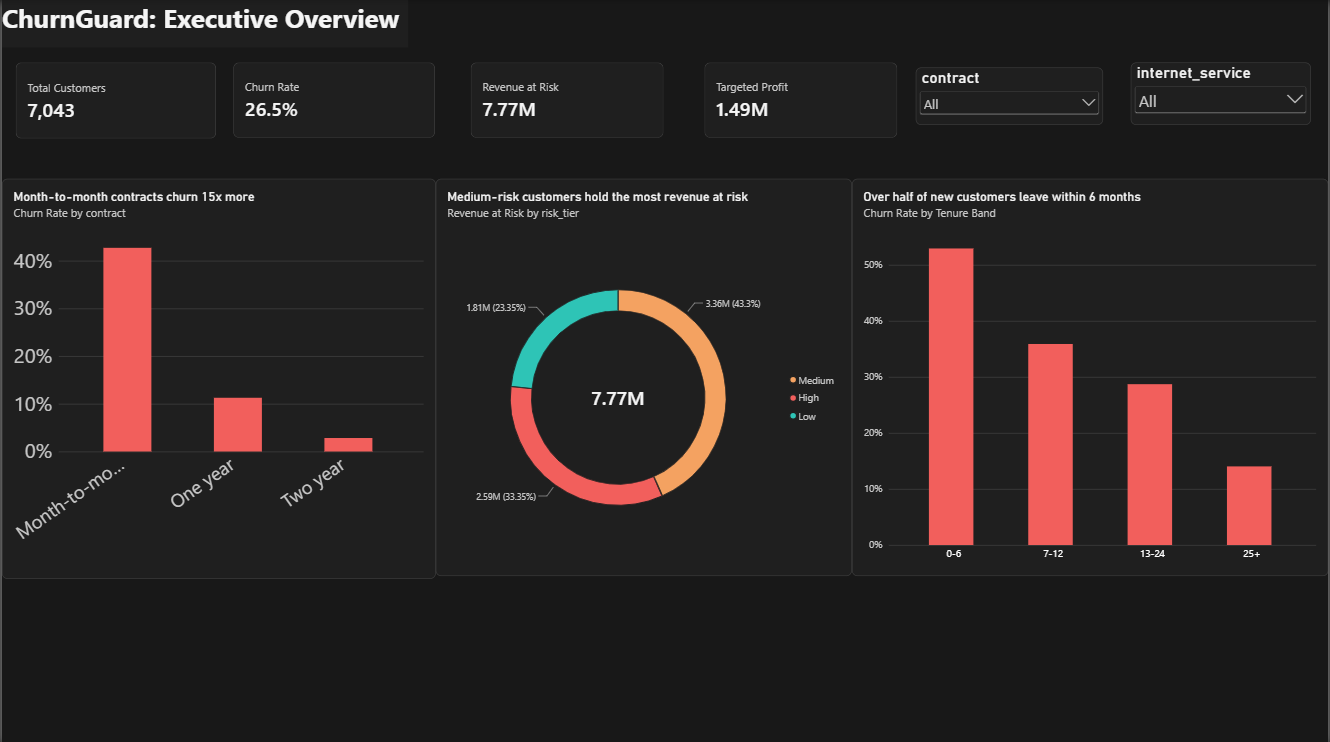

Layout of this report page (visuals, bound fields, positions):
{"tool":"powerbi","page":{"name":"Executive","canvas":[1920,1080],"ordinal":0},"visuals":[{"type":"cardVisual","fields":{"Data":["predictions.Total Customers Display"]},"box":[20,90,290,110],"z":0},{"type":"cardVisual","fields":{"Data":["predictions.Churn Rate"]},"box":[335.5,90.6,292.3,109.1],"z":1000},{"type":"cardVisual","fields":{"Data":["predictions.Revenue at Risk"]},"box":[679.2,90.6,279.9,109.1],"z":2000},{"type":"cardVisual","fields":{"Data":["predictions.Targeted Profit"]},"box":[1016.8,90.6,279.9,109.1],"z":3000},{"type":"clusteredColumnChart","title":"Month-to-month contracts churn 15x more","fields":{"Category":["predictions.contract"],"Y":["predictions.Churn Rate"]},"box":[0,258.8,628,579.1],"z":4000},{"type":"clusteredColumnChart","title":"Over half of new customers leave within 6 months","fields":{"Category":["predictions.Tenure Band"],"Y":["predictions.Churn Rate"]},"box":[1230.6,258.8,689.5,575.5],"z":5000},{"type":"donutChart","title":"Medium-risk customers hold the most revenue at risk","fields":{"Category":["predictions.risk_tier"],"Y":["predictions.Revenue at Risk"]},"box":[628,258.8,602.6,575.5],"z":6000},{"type":"slicer","fields":{"Values":["predictions.contract"]},"box":[1322.9,97.7,271.4,83.2],"z":7000},{"type":"slicer","fields":{"Values":["predictions.internet_service"]},"box":[1634.1,90.5,260.6,90.5],"z":8000},{"type":"textbox","box":[0,0,588.2,69],"z":9000}]}

Visuals, with their boxes in screenshot pixels (x1, y1, x2, y2), scaled from the page's 1920x1080 canvas onto the 1330x742 screenshot:
cardVisual - predictions.Total Customers Display: bbox=(14, 62, 215, 137)
cardVisual - predictions.Churn Rate: bbox=(232, 62, 435, 137)
cardVisual - predictions.Revenue at Risk: bbox=(470, 62, 664, 137)
cardVisual - predictions.Targeted Profit: bbox=(704, 62, 898, 137)
"Month-to-month contracts churn 15x more" clusteredColumnChart: bbox=(0, 178, 435, 576)
"Over half of new customers leave within 6 months" clusteredColumnChart: bbox=(852, 178, 1329, 573)
"Medium-risk customers hold the most revenue at risk" donutChart: bbox=(435, 178, 852, 573)
slicer - predictions.contract: bbox=(916, 67, 1104, 124)
slicer - predictions.internet_service: bbox=(1132, 62, 1312, 124)
textbox: bbox=(0, 0, 407, 47)
